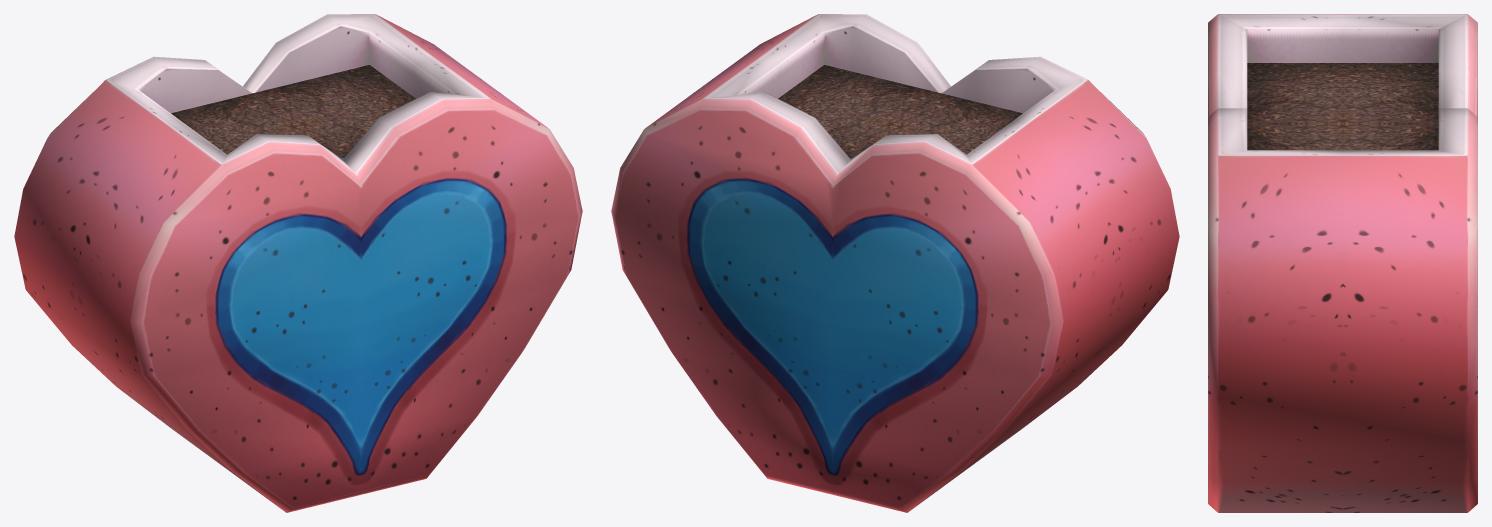
File: huapen.FBX
The picture shows the model from 3 angles, left to right: view 1: azimuth 30°, elevation 25°; view 2: azimuth 150°, elevation 25°; view 3: azimuth 270°, elevation 25°; orthographic projection. The views are drawn at different scales.
Visible parts, largest first — view 1: huapen; view 2: huapen; view 3: huapen.
Part boxes in pixels (box(x1,y1,x2,y2)): huapen: box(14, 14, 582, 512); huapen: box(611, 14, 1179, 512); huapen: box(1208, 14, 1477, 512).
Size of the model in its own units: 374 by 297 by 180.
